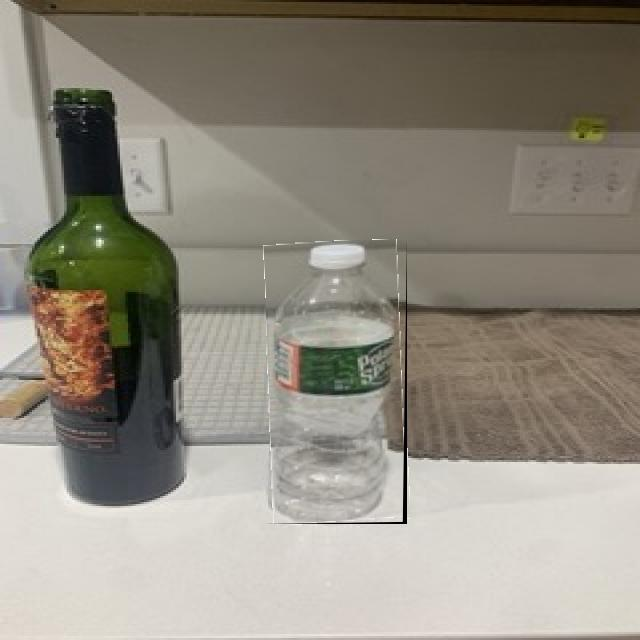water_bottle: (266, 240, 407, 524)
